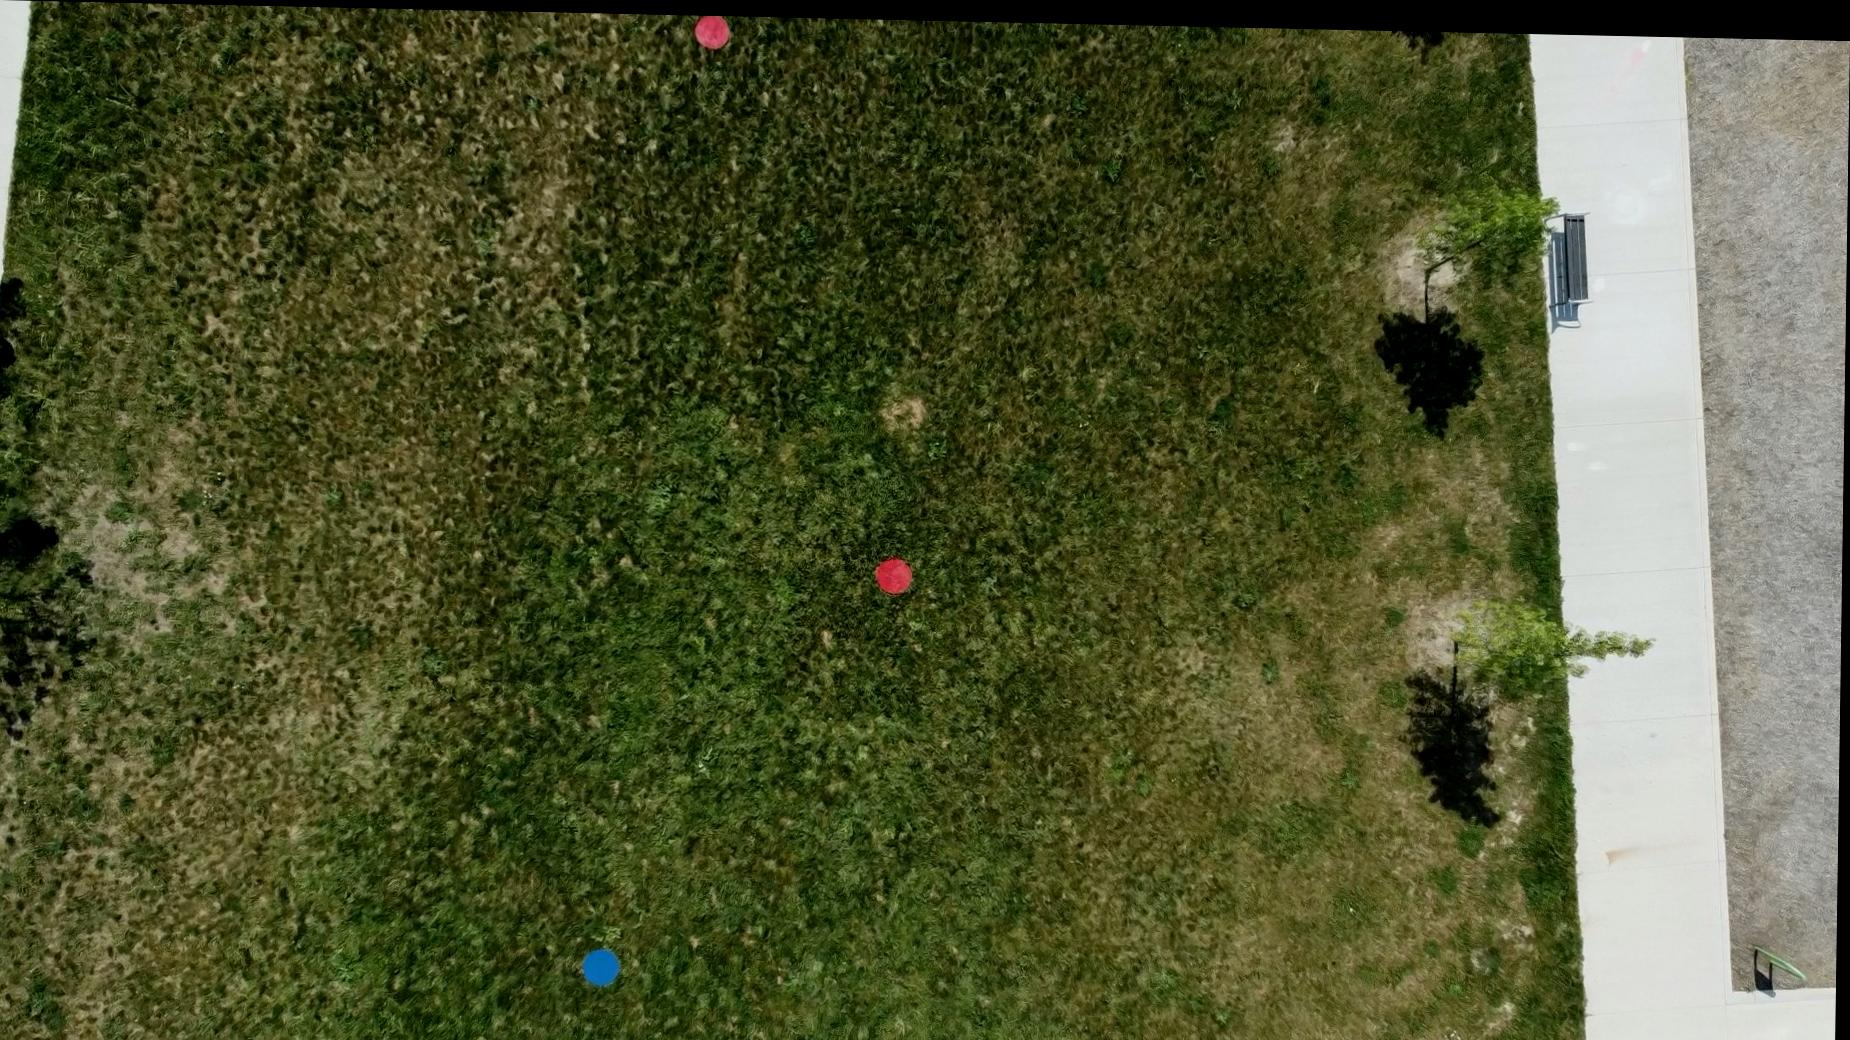Blue: (583, 943, 624, 984)
Red: (875, 552, 916, 590), (694, 13, 733, 50)
